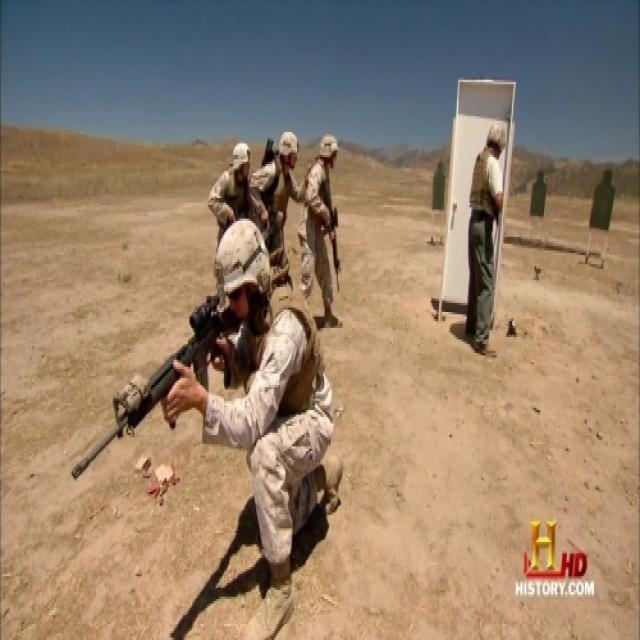rifle: (67, 293, 242, 488)
